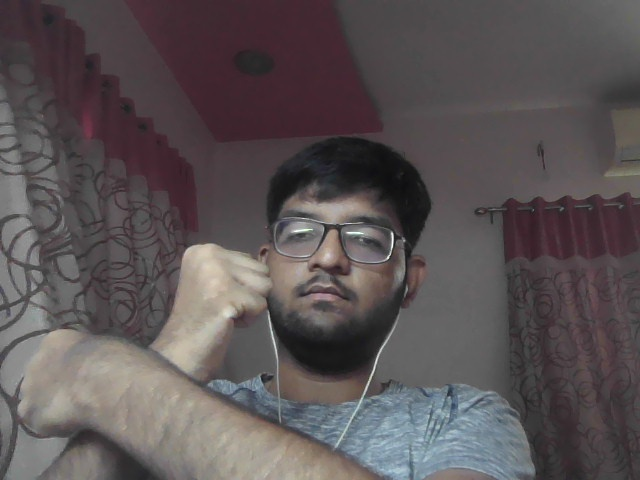પ્રેમ: (13, 238, 287, 480)
